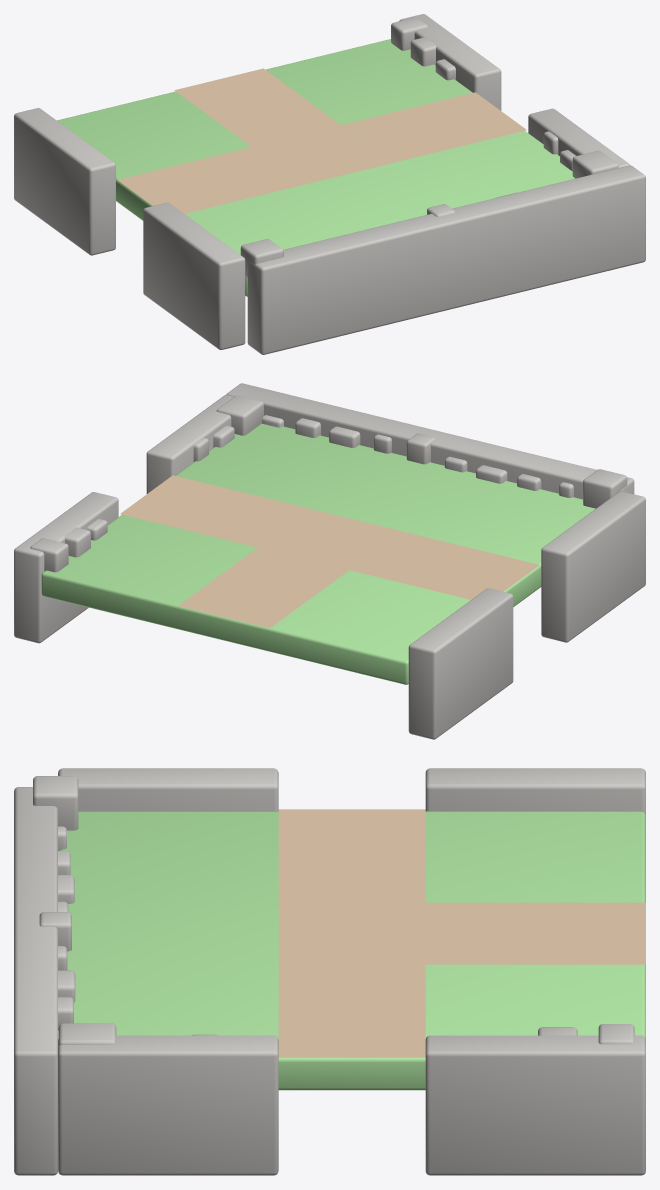
The model's file is chunk_switchback_t.glb.
3 renders of one model, top to bottom at view 1: azimuth 30°, elevation 25°; view 2: azimuth 150°, elevation 25°; view 3: azimuth 270°, elevation 25°, orthographic. The views are drawn at different scales.
Visible parts, largest first — view 1: Chunk_SwitchbackT_cliff_n, Chunk_SwitchbackT_surface, Chunk_SwitchbackT_path_in, Chunk_SwitchbackT_cliff_whi, Chunk_SwitchbackT_cliff_wlo, Chunk_SwitchbackT_path_branch, Chunk_SwitchbackT_path_out, Chunk_SwitchbackT_cliff_elo, Chunk_SwitchbackT_cliff_ehi, Chunk_SwitchbackT_rock_e9, Chunk_SwitchbackT_rock_n0, Chunk_SwitchbackT_rock_e0 (+1 smaller); view 2: Chunk_SwitchbackT_surface, Chunk_SwitchbackT_path_in, Chunk_SwitchbackT_cliff_wlo, Chunk_SwitchbackT_cliff_whi, Chunk_SwitchbackT_cliff_n, Chunk_SwitchbackT_path_branch, Chunk_SwitchbackT_path_out, Chunk_SwitchbackT_cliff_elo, Chunk_SwitchbackT_cliff_ehi, Chunk_SwitchbackT_rock_n0, Chunk_SwitchbackT_rock_e9, Chunk_SwitchbackT_rock_e0 (+3 smaller); view 3: Chunk_SwitchbackT_surface, Chunk_SwitchbackT_cliff_elo, Chunk_SwitchbackT_cliff_ehi, Chunk_SwitchbackT_path_in, Chunk_SwitchbackT_cliff_n, Chunk_SwitchbackT_path_branch, Chunk_SwitchbackT_path_out, Chunk_SwitchbackT_cliff_wlo, Chunk_SwitchbackT_cliff_whi, Chunk_SwitchbackT_rock_n0, Chunk_SwitchbackT_rock_e9, Chunk_SwitchbackT_rock_n5 (+1 smaller).
Part boxes in pixels (box(x1,y1,x2,y2)): Chunk_SwitchbackT_cliff_n: box(247, 165, 645, 354); Chunk_SwitchbackT_surface: box(57, 39, 574, 296); Chunk_SwitchbackT_path_in: box(174, 68, 392, 184); Chunk_SwitchbackT_cliff_whi: box(143, 202, 245, 349); Chunk_SwitchbackT_cliff_wlo: box(14, 108, 115, 255); Chunk_SwitchbackT_path_branch: box(341, 92, 526, 162); Chunk_SwitchbackT_path_out: box(117, 147, 302, 213); Chunk_SwitchbackT_cliff_elo: box(399, 14, 501, 110); Chunk_SwitchbackT_cliff_ehi: box(528, 108, 629, 167); Chunk_SwitchbackT_rock_e9: box(572, 150, 618, 178); Chunk_SwitchbackT_rock_n0: box(240, 239, 283, 277); Chunk_SwitchbackT_rock_e0: box(391, 17, 428, 50); Chunk_SwitchbackT_surface: box(41, 423, 595, 684); Chunk_SwitchbackT_path_in: box(178, 509, 401, 628); Chunk_SwitchbackT_cliff_wlo: box(408, 588, 513, 739); Chunk_SwitchbackT_cliff_whi: box(541, 491, 645, 642); Chunk_SwitchbackT_cliff_n: box(226, 383, 634, 499); Chunk_SwitchbackT_path_branch: box(120, 475, 309, 547); Chunk_SwitchbackT_path_out: box(349, 531, 539, 599); Chunk_SwitchbackT_cliff_elo: box(14, 492, 118, 643); Chunk_SwitchbackT_cliff_ehi: box(146, 395, 233, 493); Chunk_SwitchbackT_rock_n0: box(583, 469, 627, 508); Chunk_SwitchbackT_rock_e9: box(216, 395, 263, 435); Chunk_SwitchbackT_rock_e0: box(30, 538, 68, 572); Chunk_SwitchbackT_surface: box(58, 811, 645, 1090); Chunk_SwitchbackT_cliff_elo: box(425, 1035, 645, 1175); Chunk_SwitchbackT_cliff_ehi: box(58, 1035, 278, 1175); Chunk_SwitchbackT_path_in: box(278, 902, 645, 964); Chunk_SwitchbackT_cliff_n: box(14, 787, 57, 1175); Chunk_SwitchbackT_path_branch: box(278, 964, 425, 1057); Chunk_SwitchbackT_path_out: box(278, 809, 425, 902); Chunk_SwitchbackT_cliff_wlo: box(425, 768, 645, 814); Chunk_SwitchbackT_cliff_whi: box(58, 768, 278, 811); Chunk_SwitchbackT_rock_n0: box(33, 776, 78, 830); Chunk_SwitchbackT_rock_e9: box(58, 1023, 116, 1045); Chunk_SwitchbackT_rock_n5: box(39, 912, 71, 951).
Bounding box in the file's own units: 27.6 × 6.11 × 25.8.
